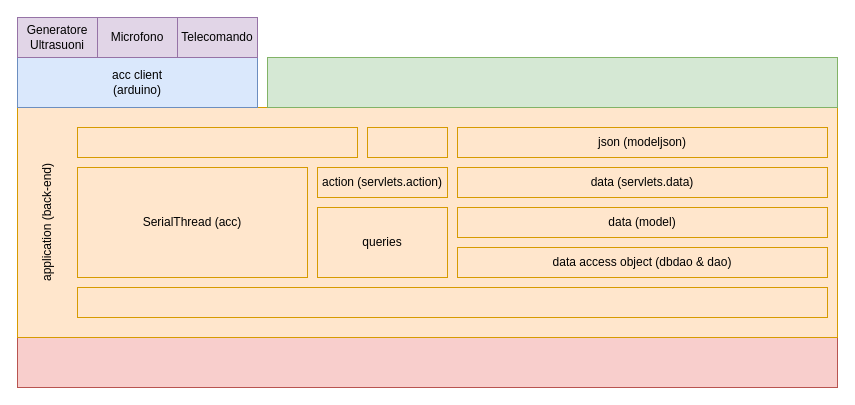
This 855x405 diagram has some shape labels left out. Each missing label, with the box of its shape:
arduino access control (acc): (76, 126, 358, 158)
authentication (auth): (366, 126, 448, 158)
connection to database (jdbc): (76, 286, 828, 318)
database: (16, 336, 838, 388)
front-end: (266, 56, 838, 108)
